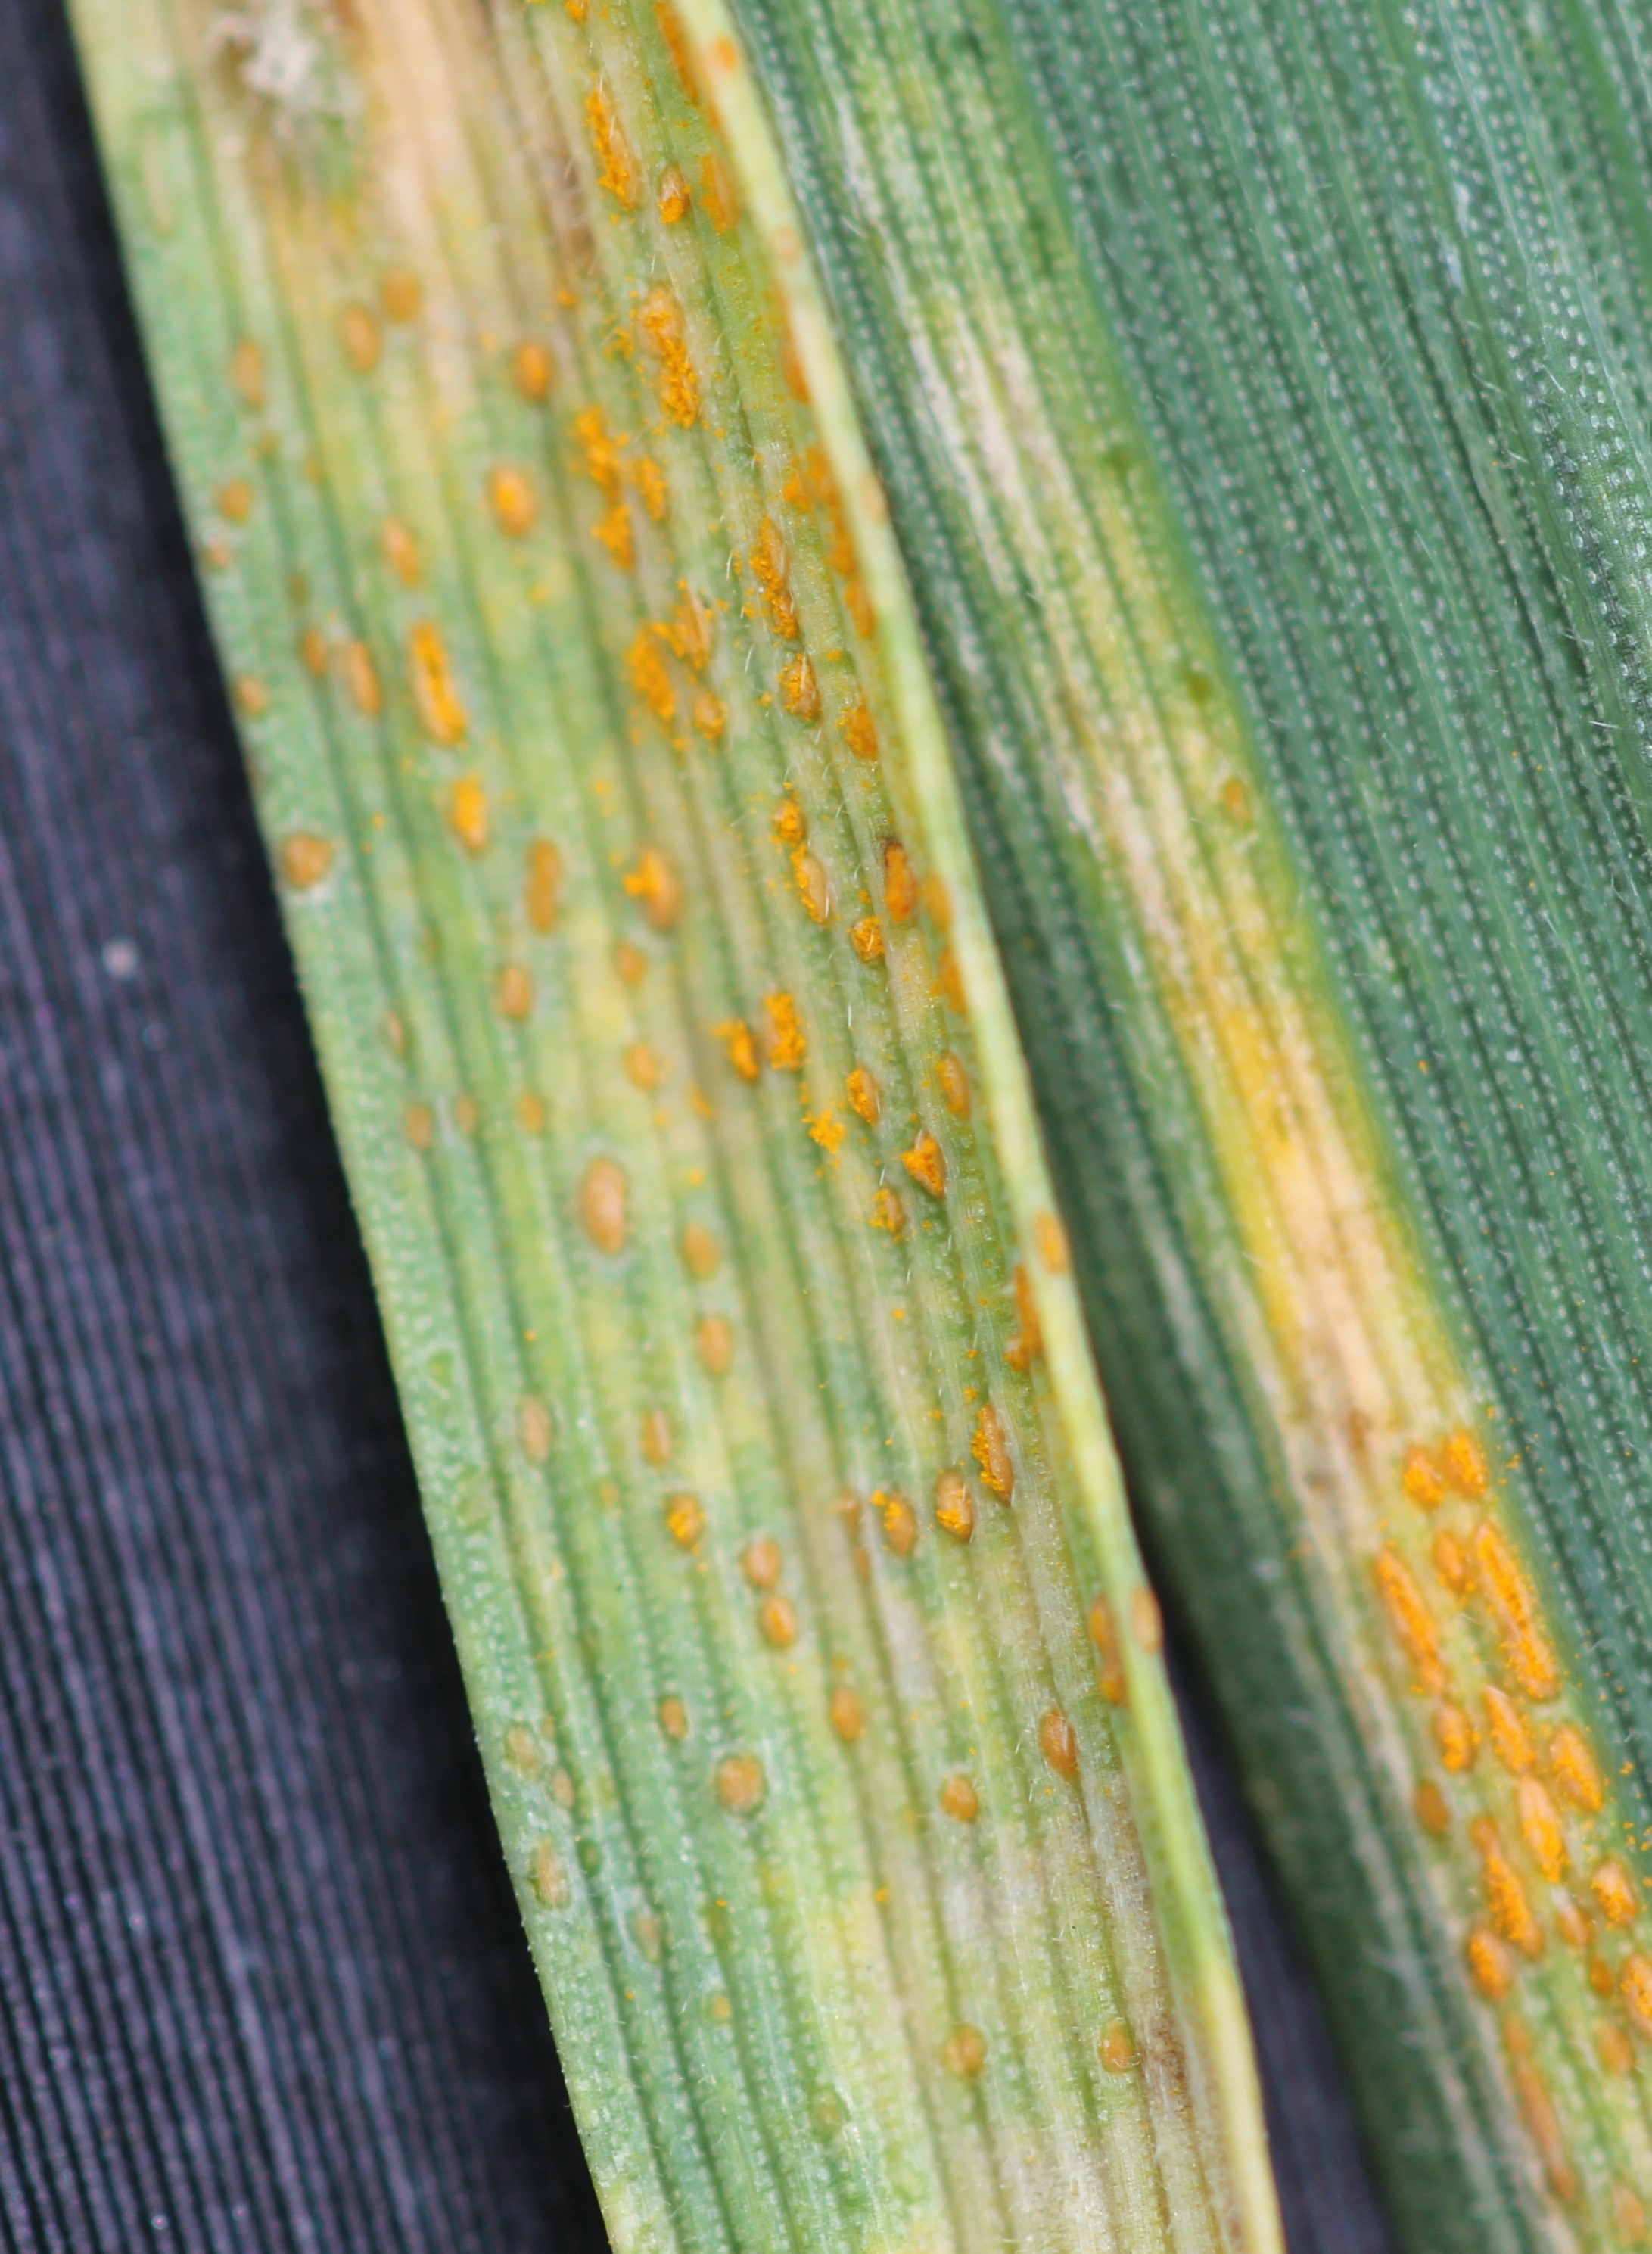Leaf Rust: (268, 255, 1274, 1986)
